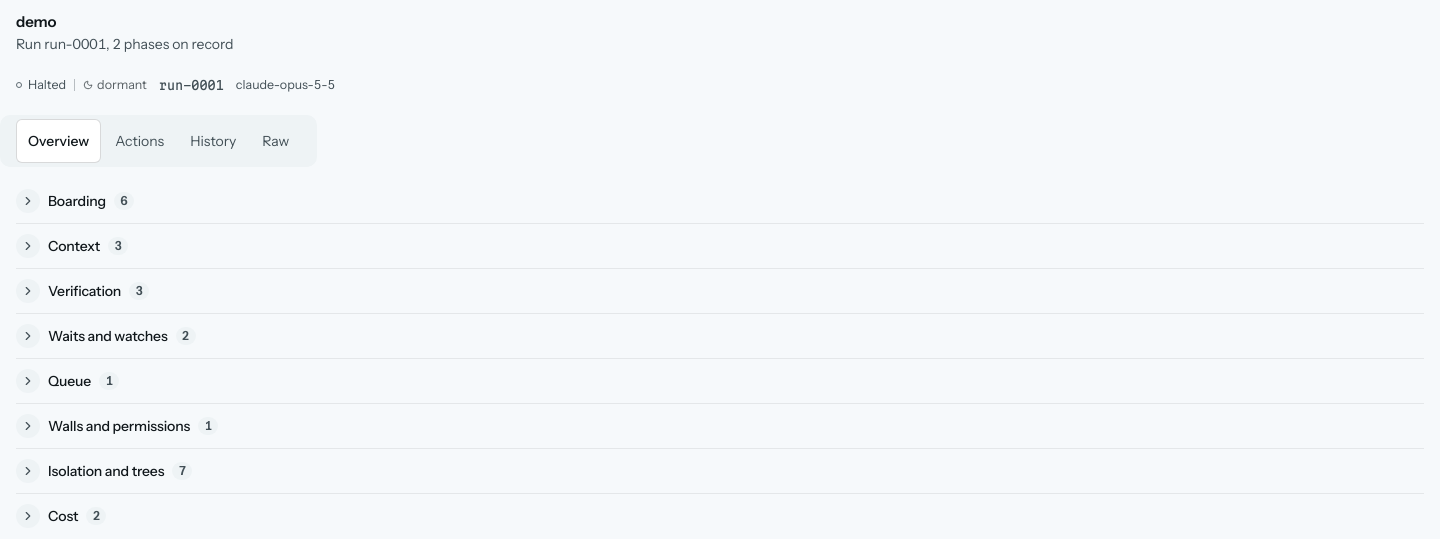
Test: the run in the panel › History is the run’s own story, newest first — its halt by kind, its notes, its rulings, its start
Step 1. Click the tab "History" → (213, 141), box [178, 119, 248, 163]
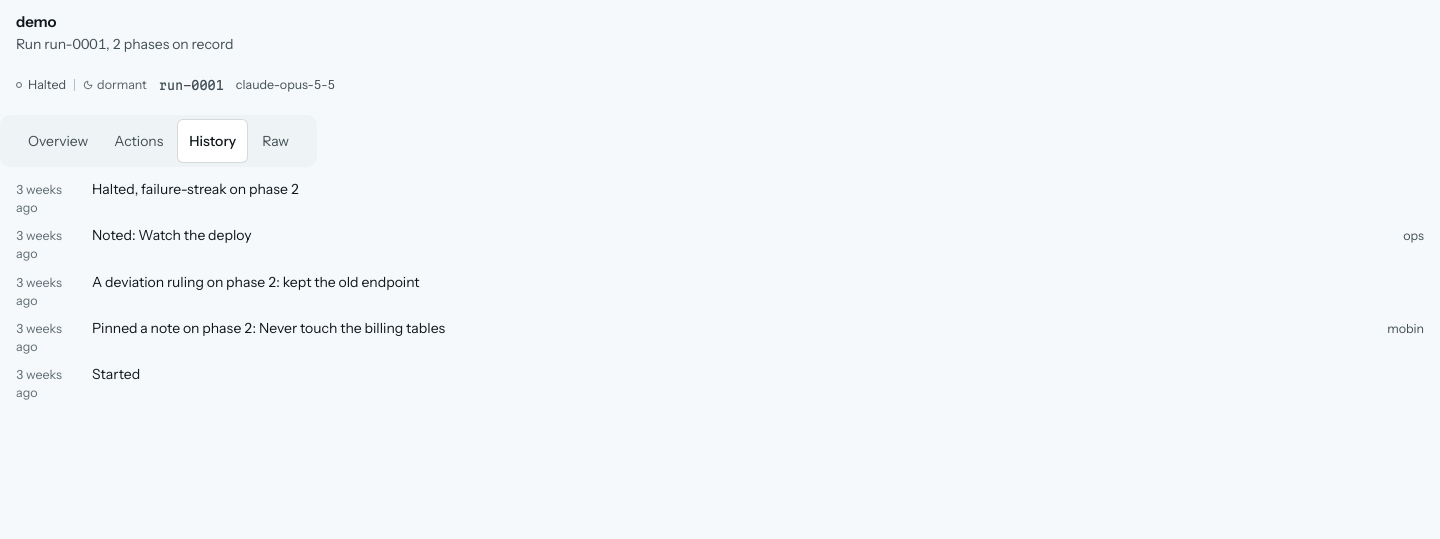
Now the number of list items is 5, box [16, 180, 299, 215]; [16, 225, 1424, 264]; [16, 272, 420, 308]; [16, 318, 1424, 356]; [16, 365, 140, 400]
Now the list item "3 weeks ago Halted, failure-streak on phase 2" is shown, box [16, 180, 299, 215]
Now the list item "3 weeks ago Noted: Watch the deploy ops" is shown, box [16, 225, 1424, 264]
